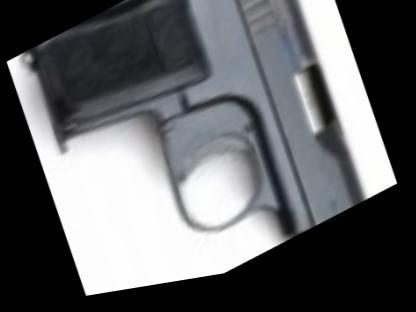pistol: (17, 0, 387, 307)
